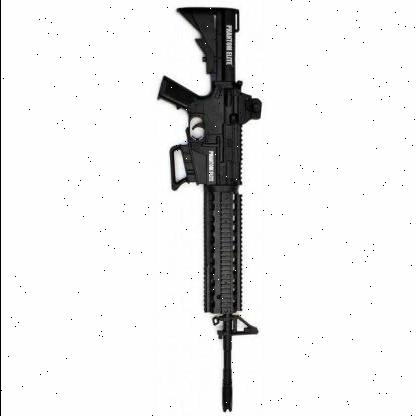rifle: (132, 0, 270, 410)
